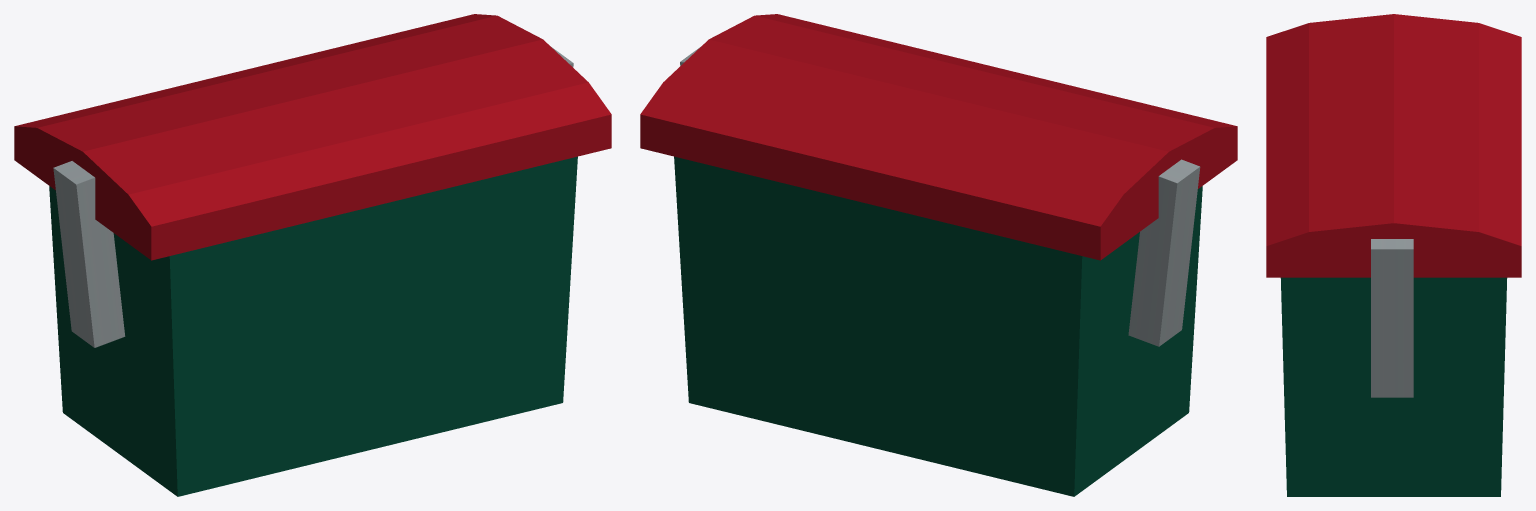
Rendered from bin_red.fbx.
3 views of the same model, side by side, from view 1: azimuth 30°, elevation 25°; view 2: azimuth 150°, elevation 25°; view 3: azimuth 270°, elevation 25° (orthographic). The views are drawn at different scales.
Parts seen in each view (by area): view 1: Cube.002; view 2: Cube.002; view 3: Cube.002.
Boxes of the visible parts, <box> form: Cube.002: <box>14,14,611,496</box>; Cube.002: <box>640,14,1237,496</box>; Cube.002: <box>1266,14,1521,496</box>.
Size of the model in its own units: 250 by 150 by 119.
